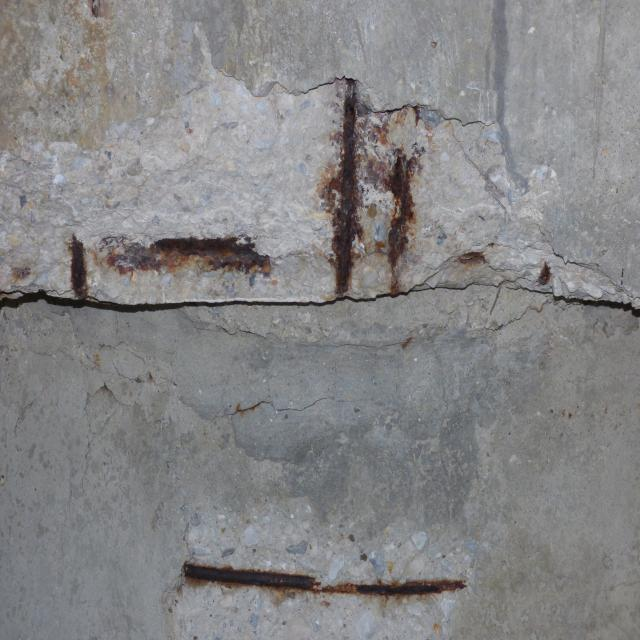corrosion: (297, 66, 425, 316), (162, 540, 486, 630), (10, 214, 274, 320), (452, 234, 630, 308)
